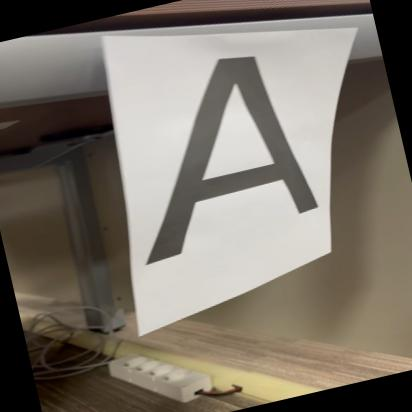seat: (108, 34, 335, 266)
